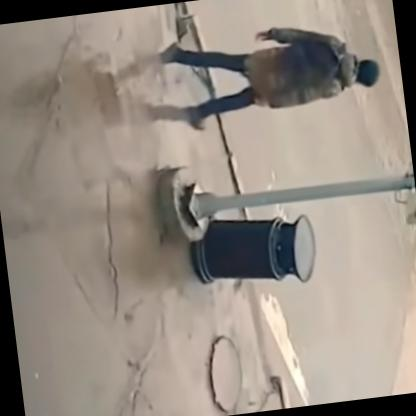Human Body: (153, 6, 388, 141)
